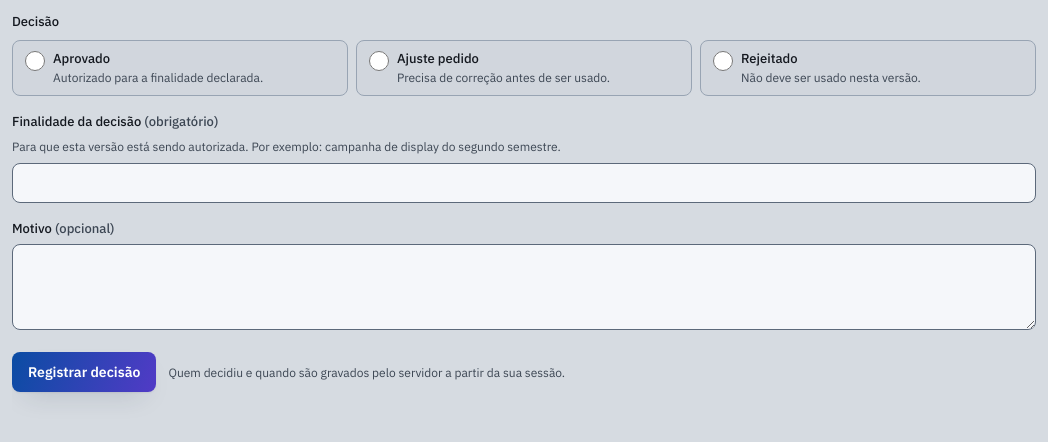
Test: o formulário de decisão › registrar sem escolher não envia e diz o que falta
This screenshot has width=1048, height=442.
Type "display Q4" into the field labelled "Finalidade da decisão (obrigatório)" at (524, 182), box x1=12 y1=162 x2=1036 y2=202
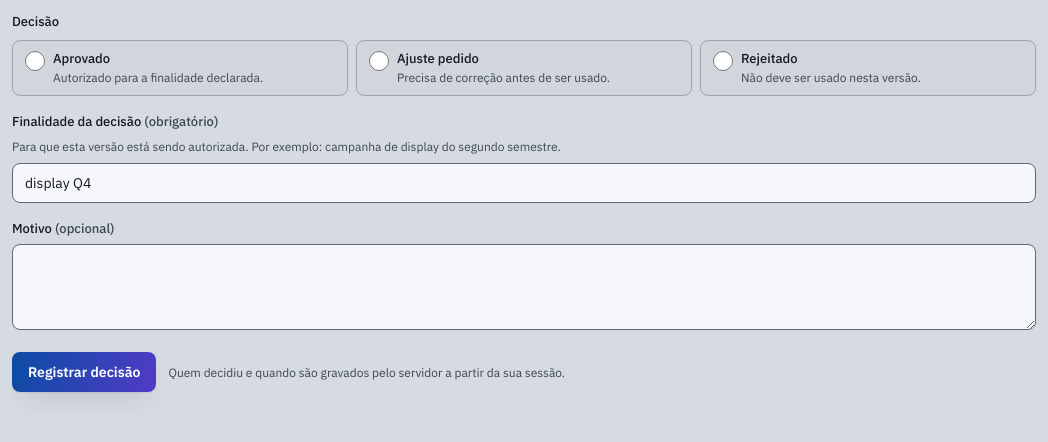
Click the button "Registrar decisão" at (84, 372), box x1=12 y1=352 x2=156 y2=392
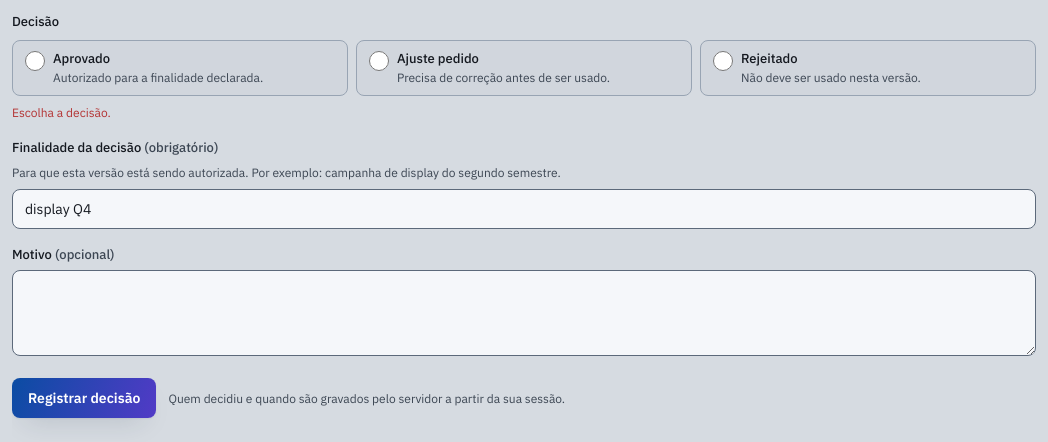
Expected: the text "Escolha a decisão." is shown, x1=12 y1=104 x2=111 y2=120
